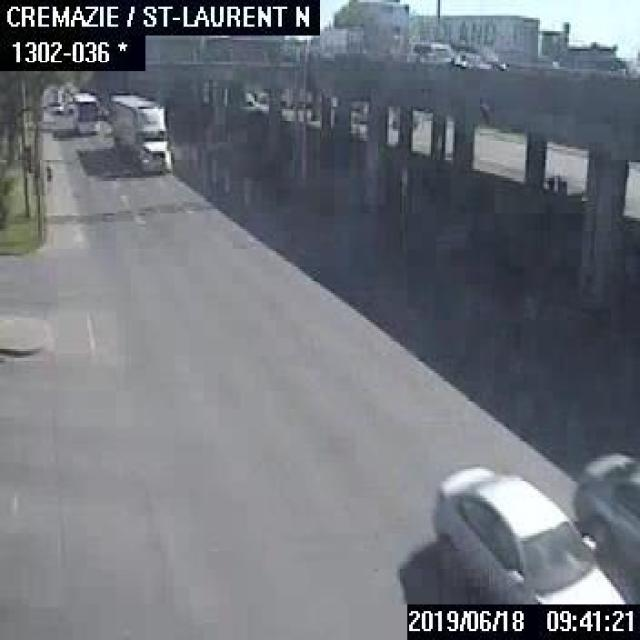bus: (71, 89, 100, 133)
construction: (240, 169, 249, 204), (222, 163, 231, 193), (210, 160, 217, 180)
vehicle: (429, 464, 638, 602), (573, 426, 638, 564), (109, 89, 173, 173), (400, 42, 455, 64), (242, 91, 265, 113)
